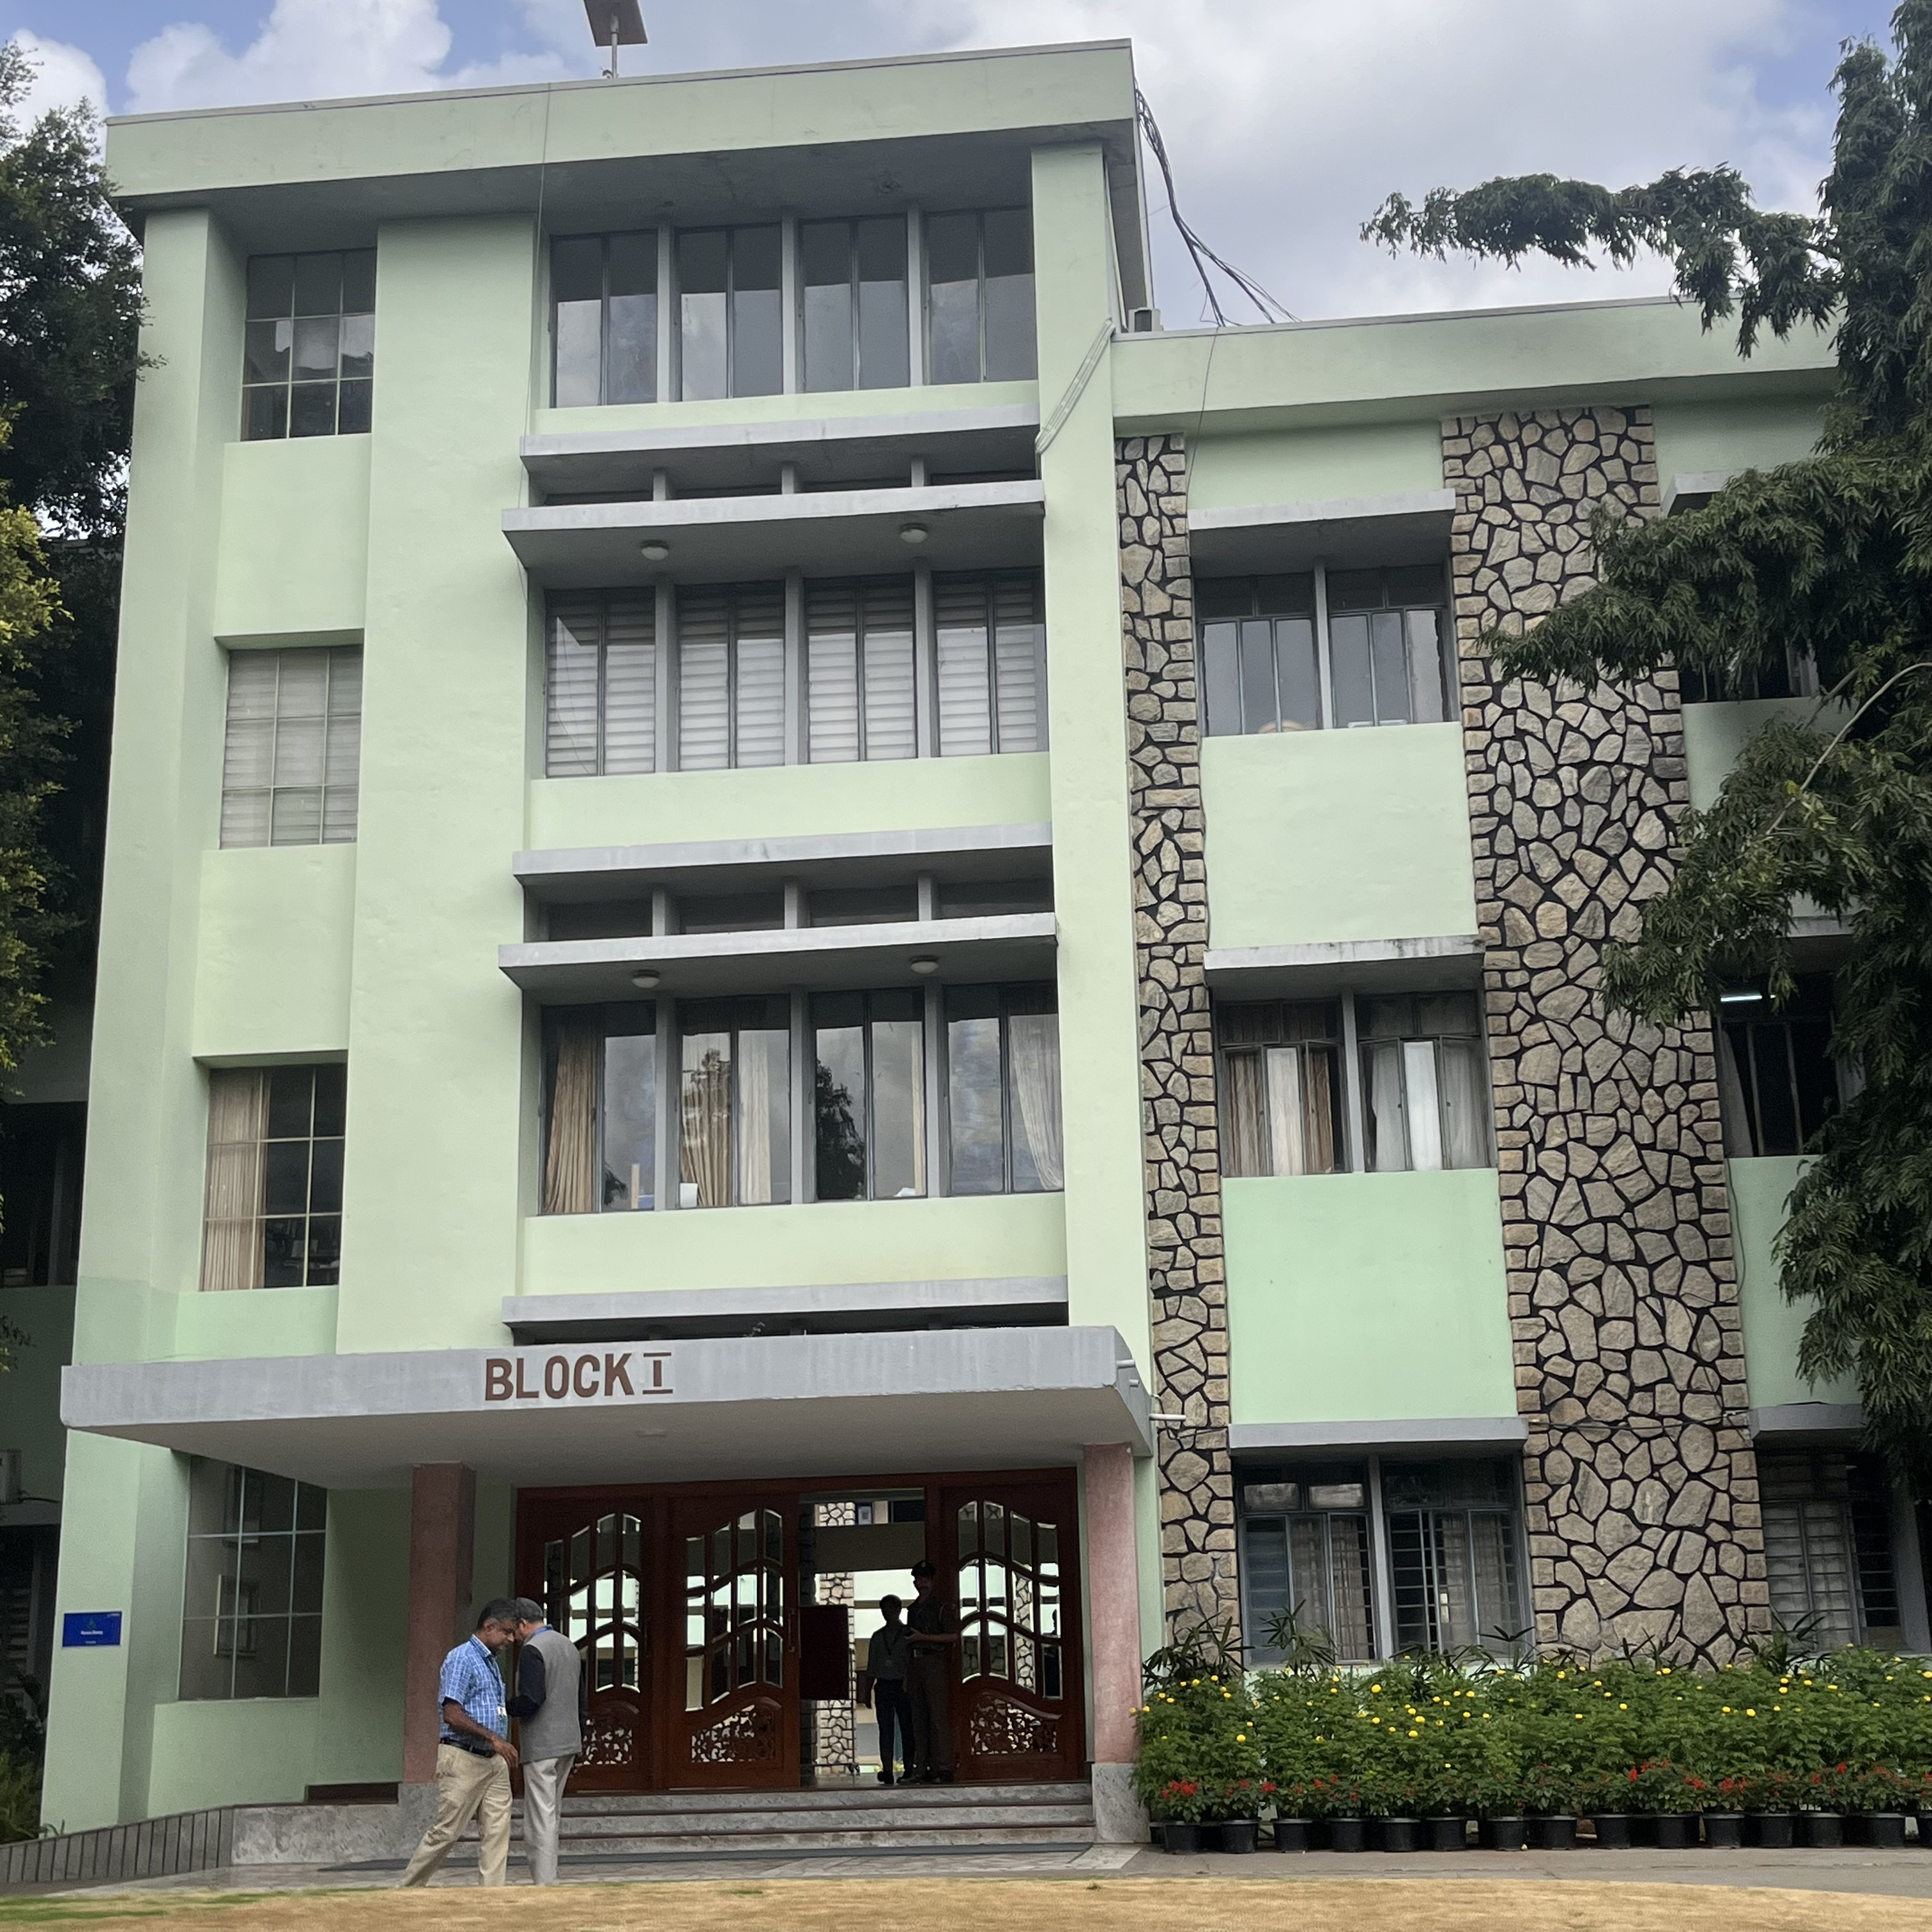Block 1: (99, 37, 1787, 1667)
